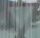Give way: (3, 1, 37, 37)
